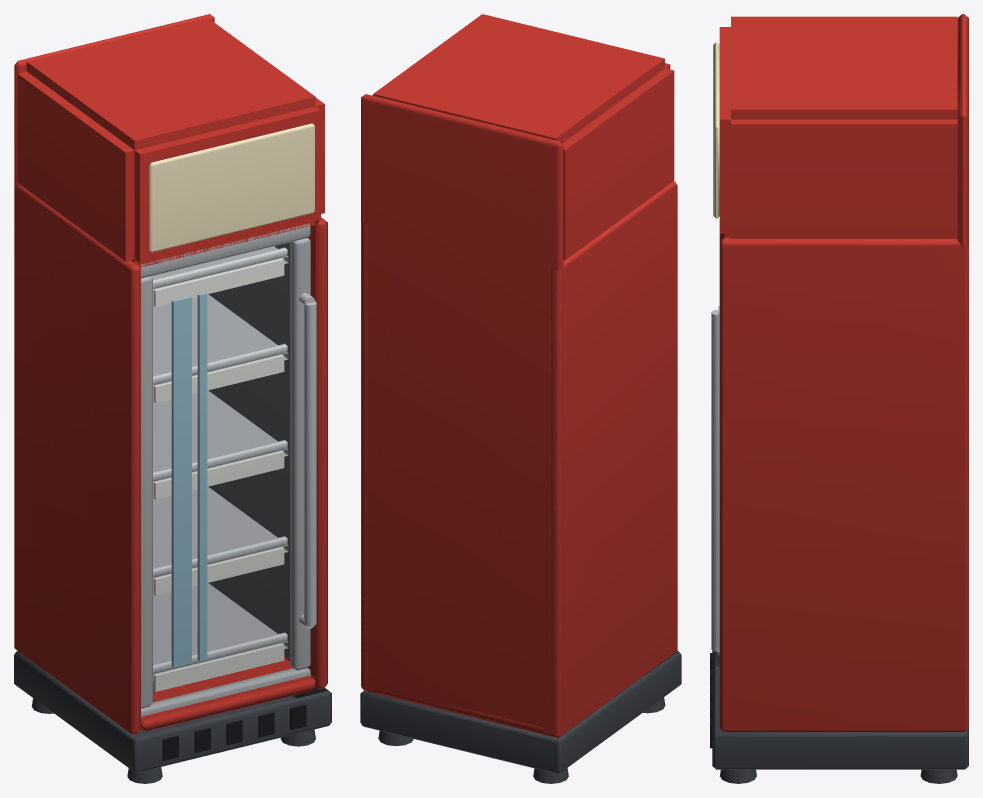
Rendered from DrinkCooler_Upright_01.glb.
3 views of the same model, side by side, from view 1: azimuth 30°, elevation 25°; view 2: azimuth 150°, elevation 25°; view 3: azimuth 270°, elevation 25° (orthographic). The views are drawn at different scales.
Visible parts, largest first — view 1: SM_DrinkCooler_Upright_01; view 2: SM_DrinkCooler_Upright_01; view 3: SM_DrinkCooler_Upright_01.
Part boxes in pixels (<box>): SM_DrinkCooler_Upright_01: <box>14,14,331,783</box>; SM_DrinkCooler_Upright_01: <box>360,14,681,783</box>; SM_DrinkCooler_Upright_01: <box>710,14,968,783</box>.
Bounding box in the file's own units: 0.65 × 2 × 0.696.
1 material, 1 textured.
